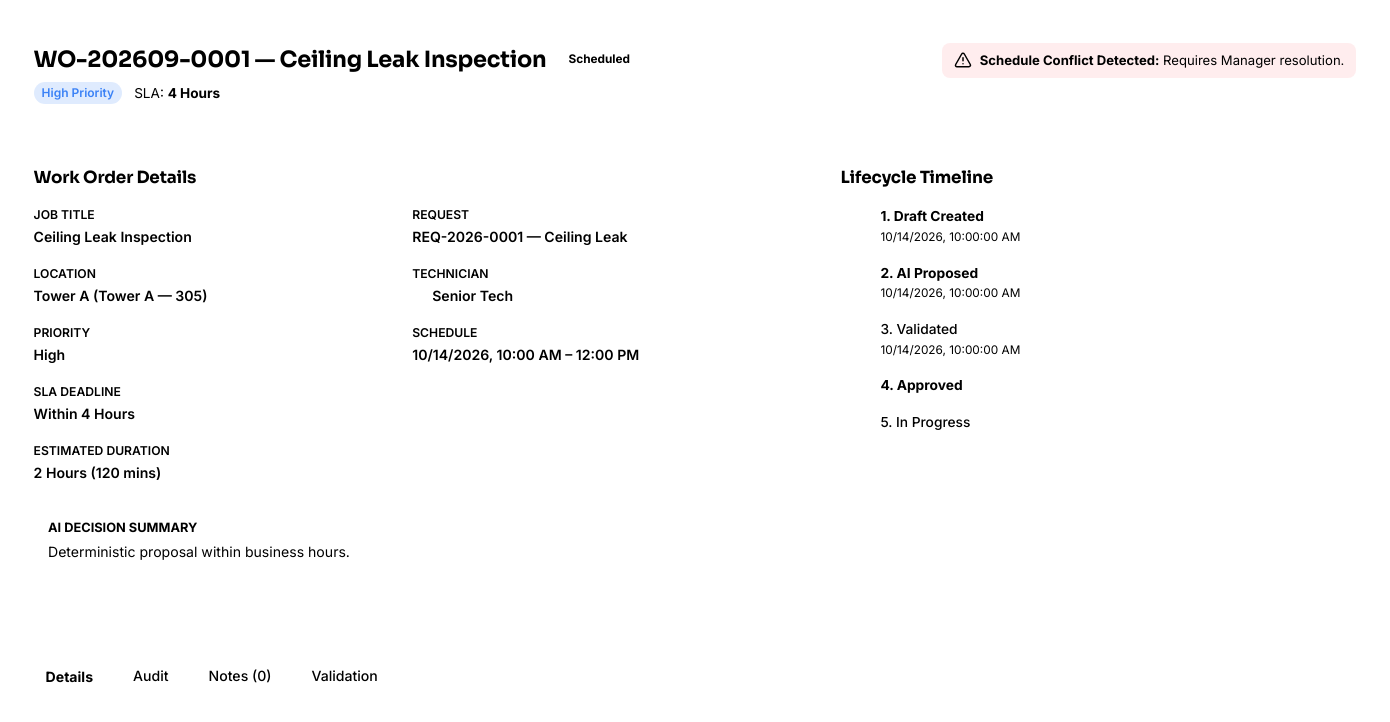
Test: Audit tab schedule-conflict checklist (WorkOrderDetailPage) › shows Schedule Conflicts (not the success label) when the audit checklist records a conflict
Expected: the heading "WO-202609-0001 — Ceiling Leak Inspection" is shown, [34,43,546,76]
Click the button "Audit" at (151, 677), box [121,661,181,692]
(page scrolled)
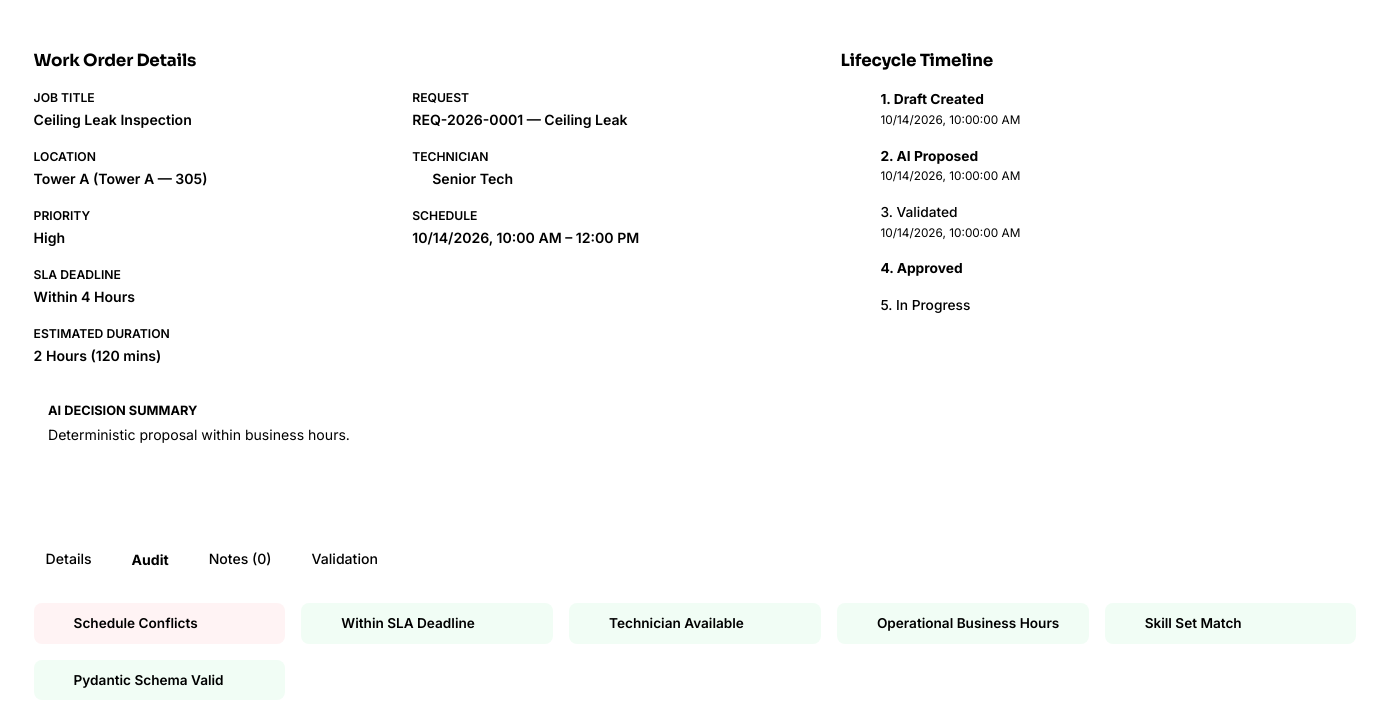
Now the text "Schedule Conflicts" is shown, box [74,613,198,634]
